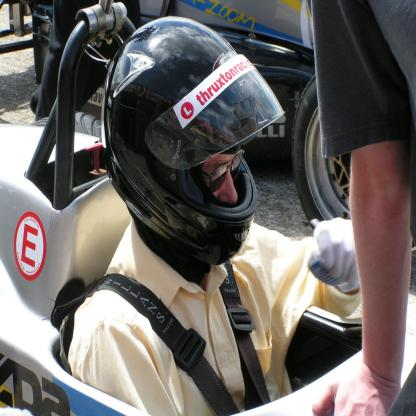Helmet: (94, 8, 282, 286)
